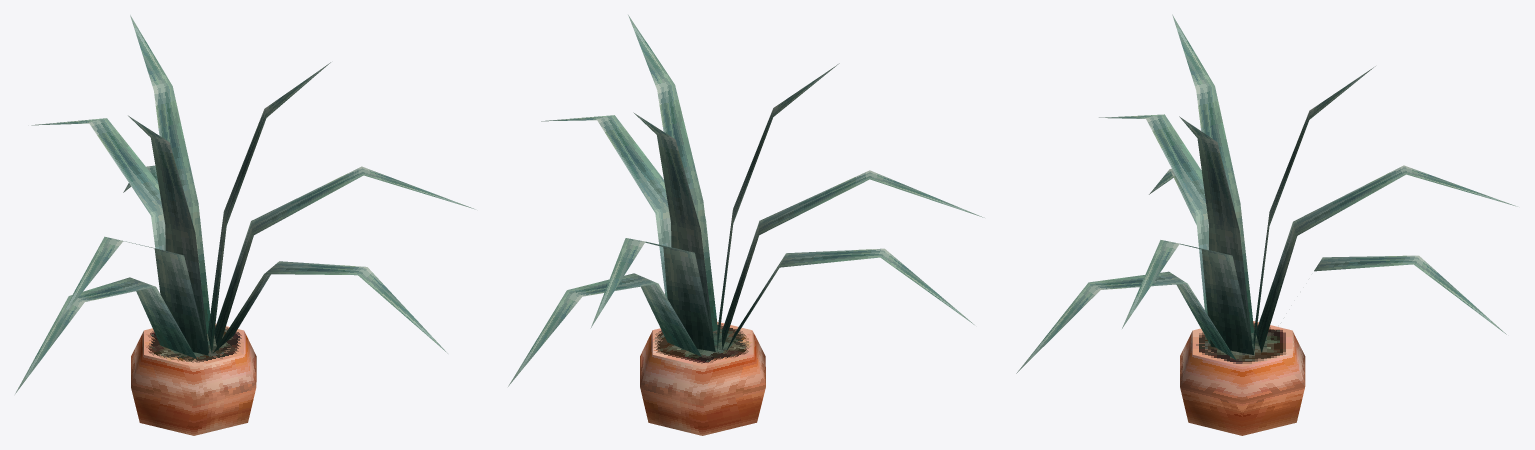
Rendered from Plant3.glb.
3 views of the same model, side by side, from view 1: azimuth 30°, elevation 25°; view 2: azimuth 150°, elevation 25°; view 3: azimuth 270°, elevation 25° (orthographic).
Visible parts, largest first — view 1: PLANT3; view 2: PLANT3; view 3: PLANT3.
Part boxes in pixels (x1=…): PLANT3: x1=15, y1=15, x2=475, y2=435; PLANT3: x1=508, y1=15, x2=984, y2=435; PLANT3: x1=1016, y1=14, x2=1517, y2=435.
Size of the model in its own units: 0.86 by 0.63 by 0.835.
2 materials, 2 textured.
